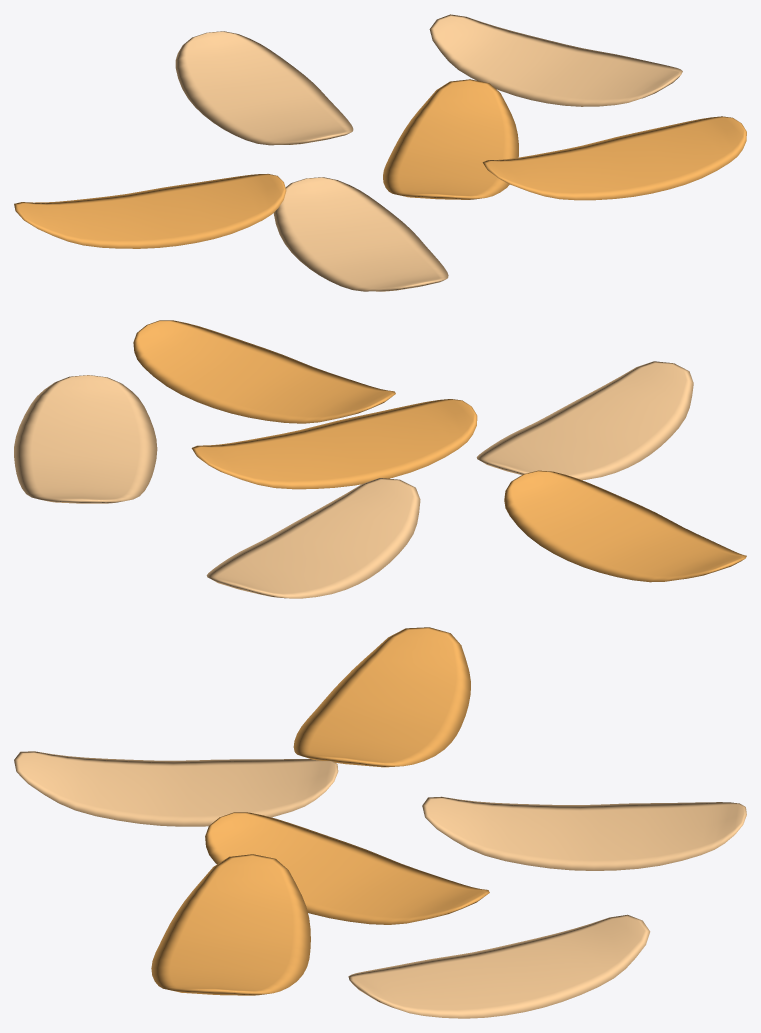
Rendered from OrangePetals.fbx.
3 renders of one model, top to bottom at view 1: azimuth 30°, elevation 25°; view 2: azimuth 150°, elevation 25°; view 3: azimuth 270°, elevation 25°, orthographic. The views are drawn at different scales.
Visible parts, largest first — view 1: Petel.008, Petel.006, Petel.011, Petel.007, Petel.010, Petel.009; view 2: Petel.010, Petel.009, Petel.006, Petel.008, Petel.011, Petel.007; view 3: Petel.011, Petel.007, Petel.008, Petel.006, Petel.010, Petel.009.
Part boxes in pixels (x1=…): Petel.008: x1=482, y1=116, x2=746, y2=200; Petel.006: x1=14, y1=174, x2=286, y2=248; Petel.011: x1=175, y1=31, x2=353, y2=145; Petel.007: x1=273, y1=177, x2=448, y2=291; Petel.010: x1=429, y1=14, x2=682, y2=106; Petel.009: x1=383, y1=79, x2=518, y2=199; Petel.010: x1=14, y1=375, x2=157, y2=503; Petel.009: x1=191, y1=399, x2=477, y2=489; Petel.006: x1=504, y1=470, x2=746, y2=582; Petel.008: x1=133, y1=320, x2=395, y2=423; Petel.011: x1=206, y1=478, x2=420, y2=598; Petel.007: x1=476, y1=361, x2=693, y2=480; Petel.011: x1=422, y1=796, x2=746, y2=870; Petel.007: x1=14, y1=751, x2=338, y2=826; Petel.008: x1=151, y1=854, x2=310, y2=995; Petel.006: x1=293, y1=627, x2=470, y2=767; Petel.010: x1=348, y1=914, x2=650, y2=1018; Petel.009: x1=205, y1=812, x2=489, y2=924.
Size of the model in its own units: 63.17 by 2.47 by 52.17.
